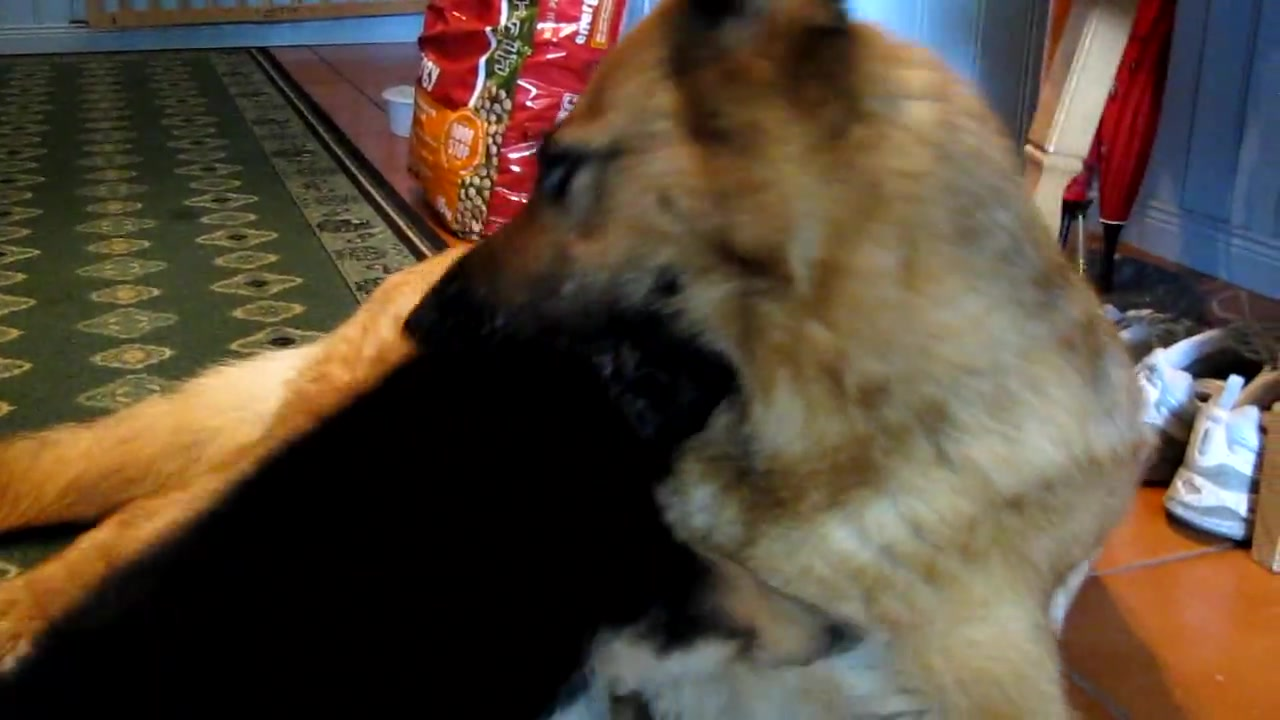dog: (1, 1, 1155, 720)
